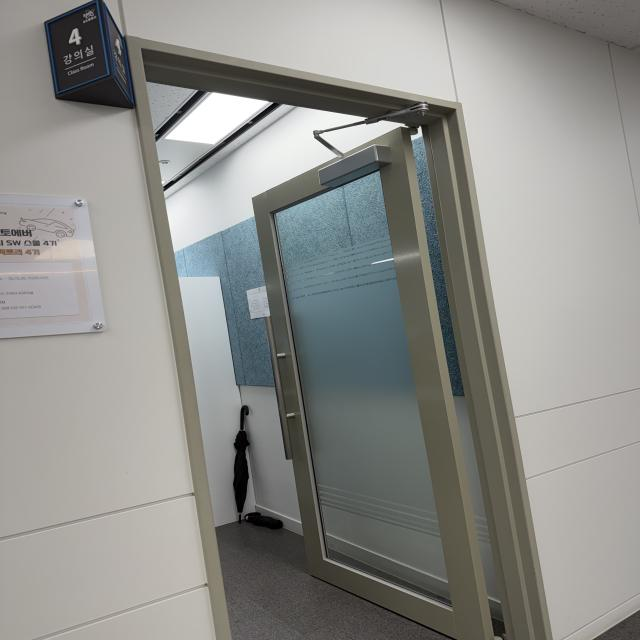room4: (44, 4, 108, 92)
